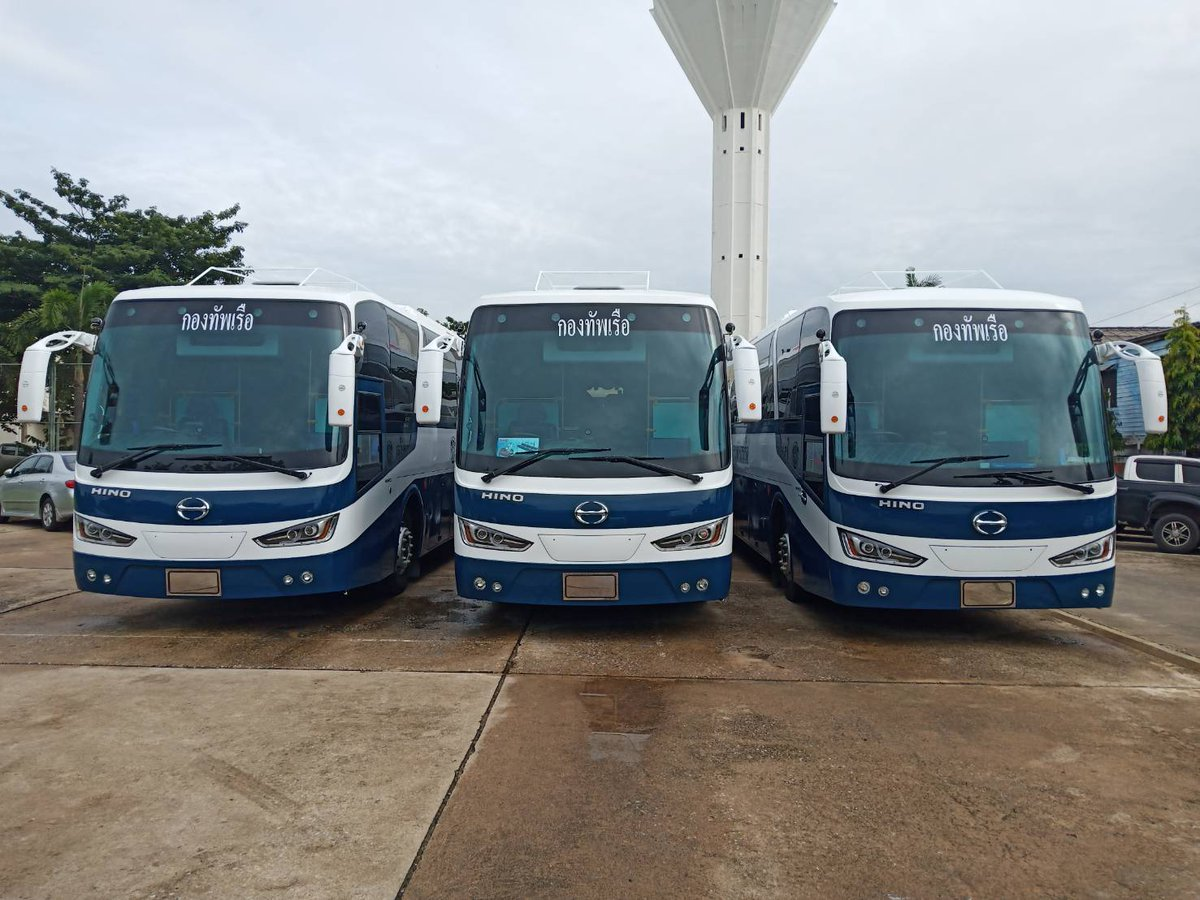bus: (758, 286, 1126, 614), (72, 275, 428, 601), (452, 288, 735, 611)
